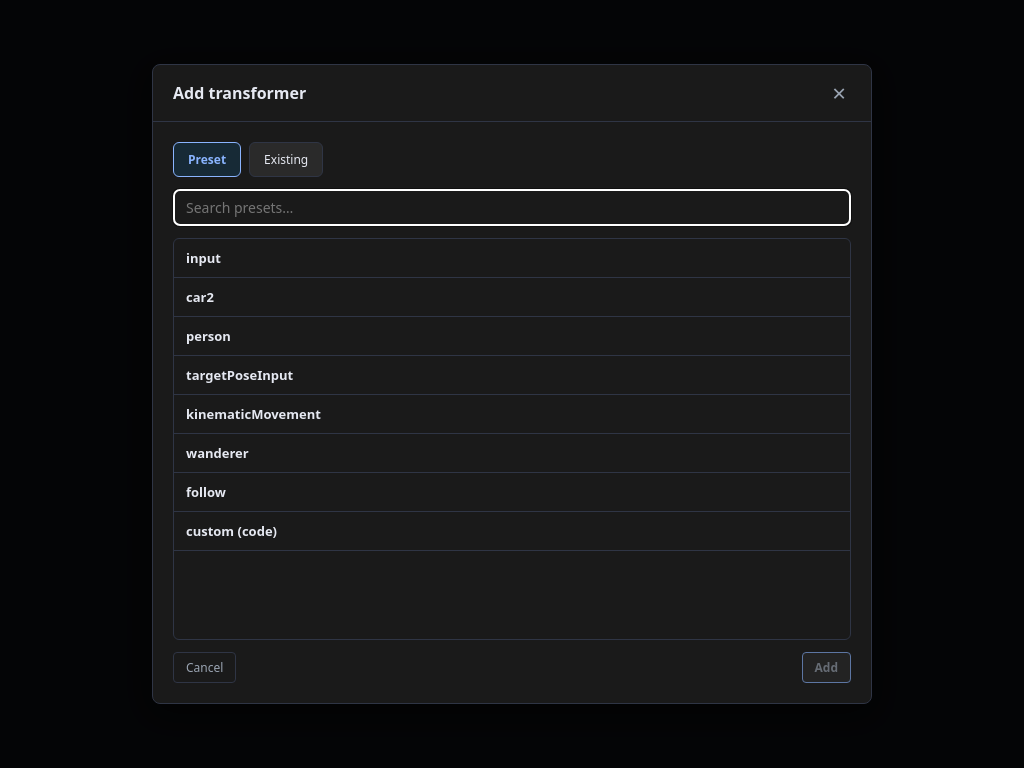
Test: AddTransformerDialog › shows preset and existing tabs with grouped existing transformers
The image size is (1024, 768).
Check: the tab with test id "add-transformer-tab-preset" is shown, box [173,142,241,177]
Check: the option with test id "add-transformer-preset-wanderer" is shown, box [174,434,850,473]
What coordinates should you click on to do the following:
click the tab with test id "add-transformer-tab-existing"
I would click on:
 (286, 160)
Its box is [249,142,323,177].
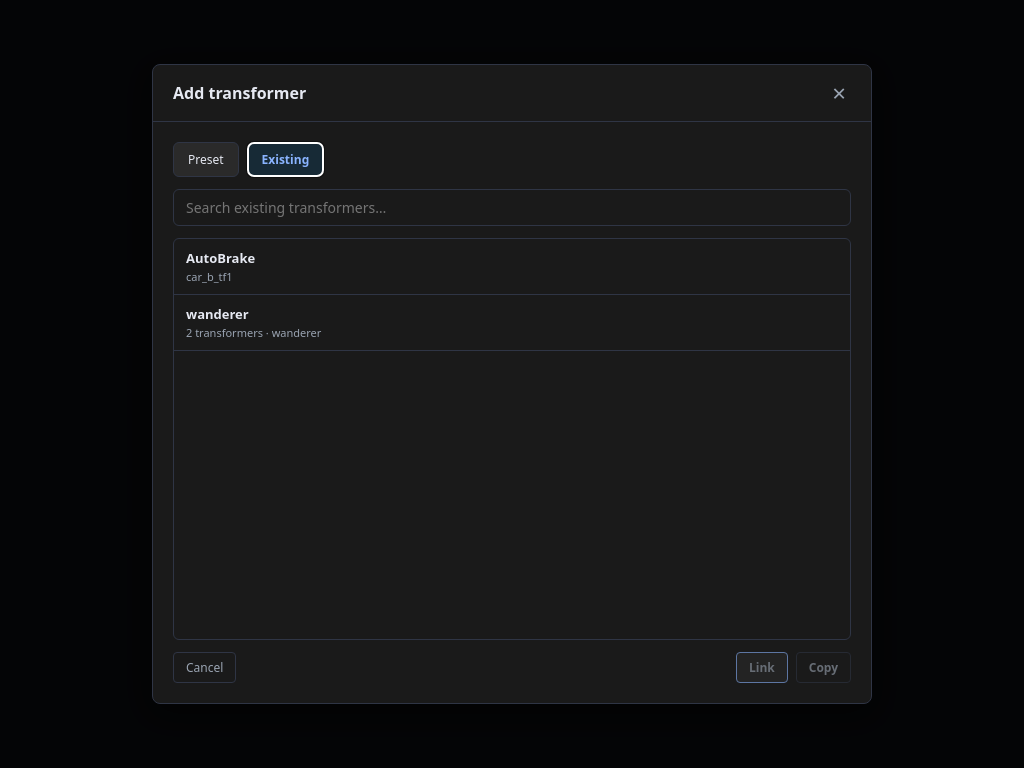
Check: the list with test id "add-transformer-existing-list" is shown, box [173,238,851,640]
Check: the text "AutoBrake" is shown, box [186,249,255,267]
Check: the text "2 transformers · wanderer" is shown, box [186,325,321,340]
